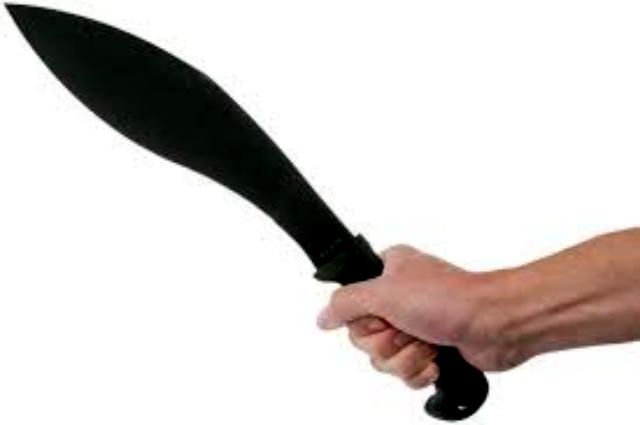long knife: (0, 1, 498, 424)
